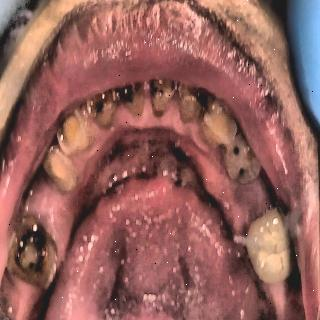cavities: (7, 224, 59, 286), (118, 76, 150, 110), (84, 94, 118, 126), (178, 84, 210, 116), (151, 77, 177, 109)
